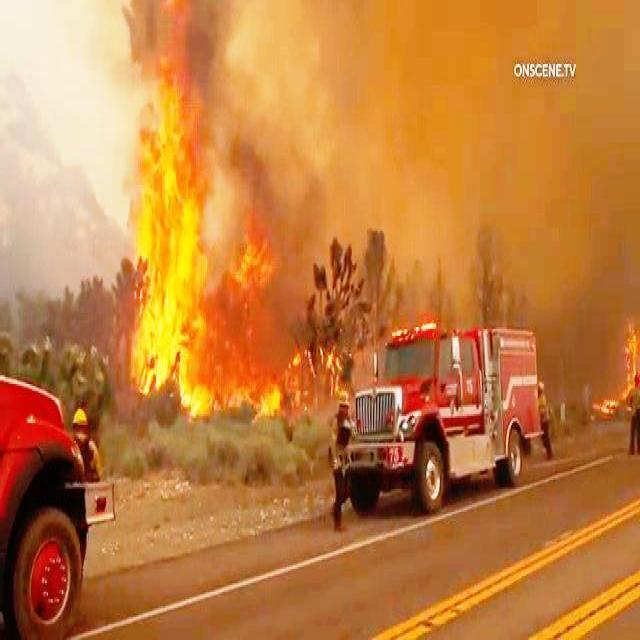Fire: (130, 0, 226, 416), (218, 327, 313, 414)
Smoke: (252, 27, 492, 206), (490, 188, 629, 332)
